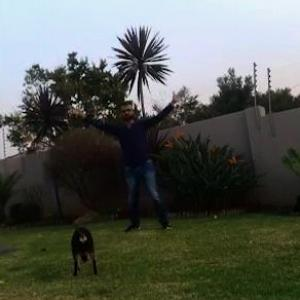takeoff: (58, 95, 172, 236)
